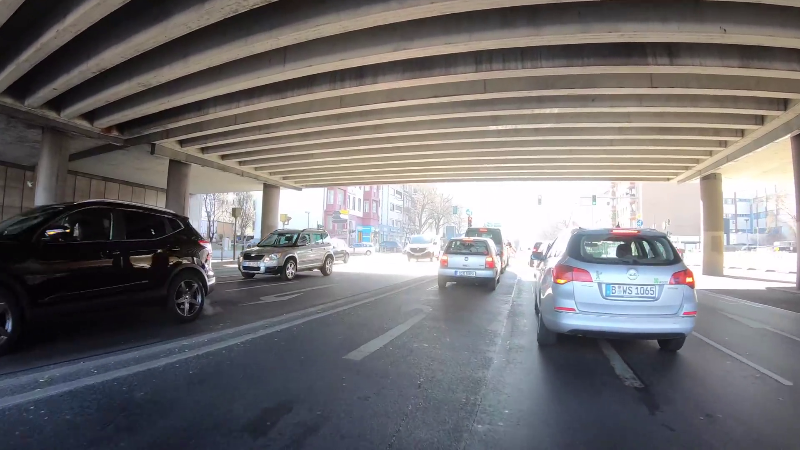Plate: (604, 283, 658, 299), (453, 270, 476, 276)
